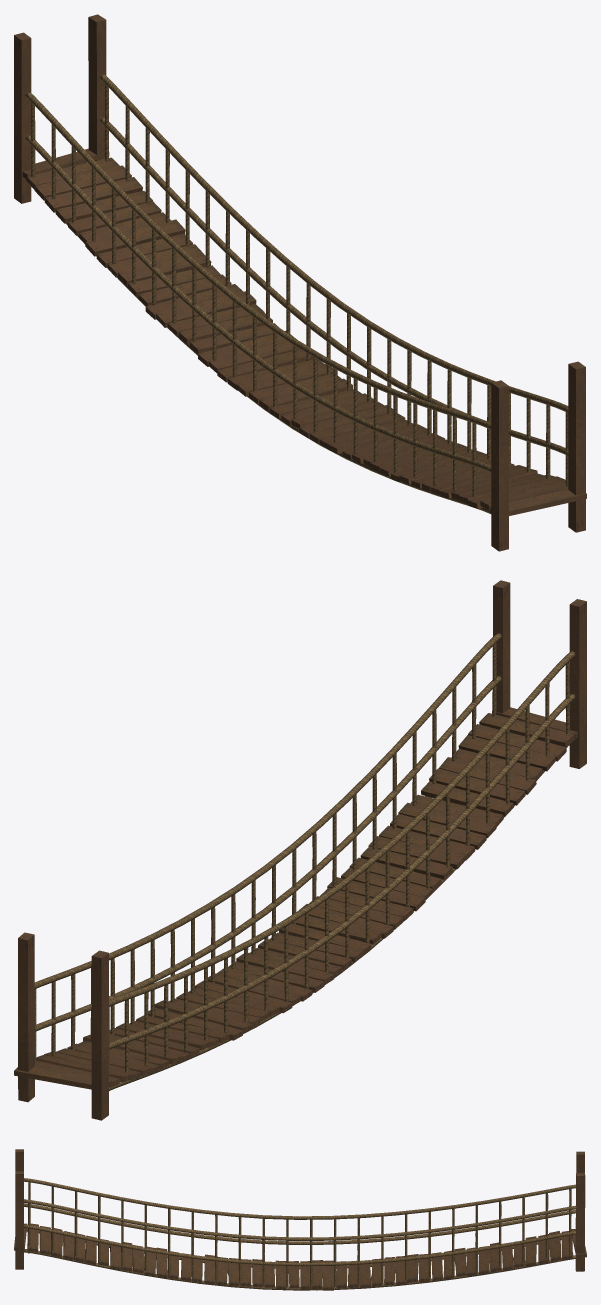
The model's file is RopeBridge.glb.
The picture shows the model from 3 angles, top to bottom: view 1: azimuth 30°, elevation 25°; view 2: azimuth 150°, elevation 25°; view 3: azimuth 270°, elevation 25°; orthographic projection. The views are drawn at different scales.
Visible parts, largest first — view 1: Miniropes.005; view 2: Miniropes.005; view 3: Miniropes.005.
Boxes of the visible parts, x1=… form: Miniropes.005: x1=14, y1=14, x2=586, y2=551; Miniropes.005: x1=14, y1=580, x2=586, y2=1120; Miniropes.005: x1=14, y1=1149, x2=586, y2=1290.
Bounding box in the file's own units: 2.93 × 6.09 × 26.82.
2 materials, 2 textured.
